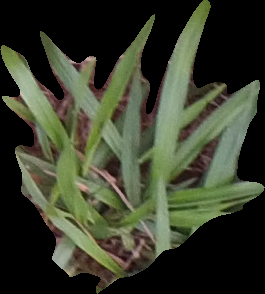grass: (1, 1, 263, 293)
